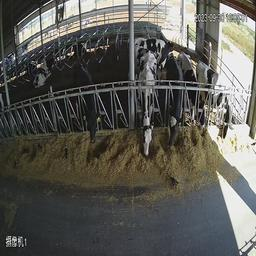cow: (196, 58, 235, 158), (69, 54, 103, 165), (178, 45, 211, 146), (137, 48, 160, 171), (163, 52, 184, 161), (135, 29, 179, 65), (24, 53, 59, 92)
